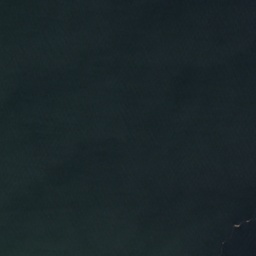Marine Debris: (245, 220, 250, 224)
